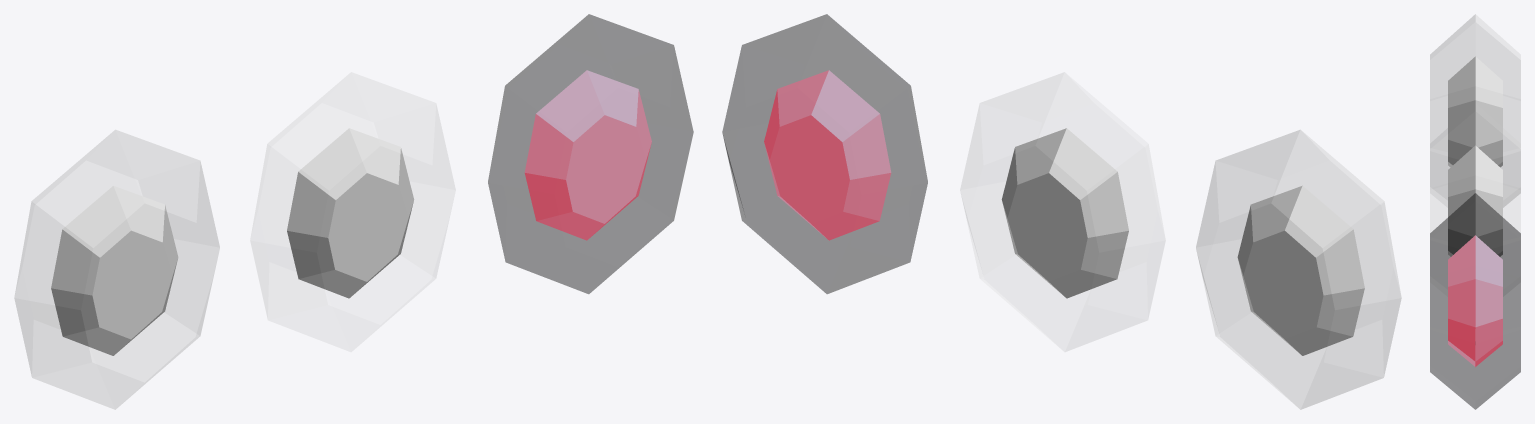
Rendered from cristalmemoria(Prueba1).fbx.
3 views of the same model, side by side, from view 1: azimuth 30°, elevation 25°; view 2: azimuth 150°, elevation 25°; view 3: azimuth 270°, elevation 25° (orthographic). The views are drawn at different scales.
Parts seen in each view (by area): view 1: Cubo.002, Cubo, Cubo.001; view 2: Cubo.002, Cubo, Cubo.001; view 3: Cubo.002, Cubo, Cubo.001.
Boxes of the visible parts, bbox=[...] form: Cubo.002: bbox=[488, 14, 693, 293]; Cubo: bbox=[14, 130, 219, 409]; Cubo.001: bbox=[250, 72, 455, 351]; Cubo.002: bbox=[722, 14, 927, 293]; Cubo: bbox=[1196, 130, 1401, 409]; Cubo.001: bbox=[960, 72, 1165, 351]; Cubo.002: bbox=[1430, 193, 1520, 409]; Cubo: bbox=[1430, 14, 1520, 207]; Cubo.001: bbox=[1430, 104, 1520, 256].
Size of the model in its own units: 1338 by 528 by 200.
